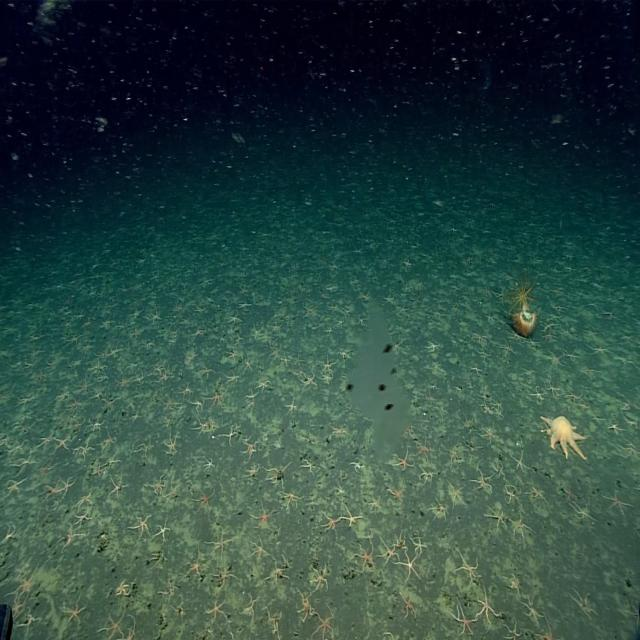brittle-stars: (208, 528, 234, 560), (450, 604, 475, 636), (12, 566, 38, 596), (63, 594, 87, 626), (478, 588, 499, 624), (312, 609, 336, 640), (572, 590, 597, 619), (102, 611, 126, 640), (352, 542, 374, 573), (457, 552, 479, 582), (604, 490, 630, 515), (400, 552, 421, 582), (252, 504, 274, 531), (130, 513, 152, 539), (534, 620, 562, 640), (185, 550, 203, 580), (7, 592, 27, 619), (240, 596, 260, 623), (194, 487, 216, 511), (214, 563, 236, 587), (206, 597, 228, 621), (623, 599, 640, 630), (485, 507, 506, 532), (512, 514, 532, 540), (522, 595, 542, 621), (266, 464, 289, 486), (61, 526, 84, 548), (298, 590, 316, 618), (311, 566, 330, 592), (268, 560, 288, 584), (391, 450, 412, 472), (341, 506, 362, 528), (14, 452, 36, 473), (473, 470, 493, 493), (448, 482, 466, 507), (5, 477, 26, 498), (429, 498, 448, 521), (380, 540, 398, 564), (22, 607, 39, 632), (572, 501, 592, 522), (512, 451, 531, 473), (136, 437, 155, 459), (108, 475, 126, 498), (0, 523, 18, 546), (122, 616, 139, 640), (266, 608, 283, 632), (250, 539, 268, 561), (415, 439, 432, 462), (388, 481, 405, 504), (280, 490, 300, 509), (505, 620, 524, 640), (402, 593, 417, 618), (156, 519, 172, 542), (321, 513, 339, 533), (75, 491, 93, 511), (165, 483, 180, 506), (73, 511, 92, 529), (158, 584, 177, 602), (59, 478, 76, 498), (42, 482, 62, 499), (412, 533, 427, 555), (173, 601, 188, 623), (208, 391, 226, 409), (8, 440, 26, 458), (36, 458, 54, 476), (76, 441, 93, 460), (481, 423, 498, 442), (448, 443, 462, 466), (150, 476, 166, 496), (99, 432, 115, 452), (115, 579, 131, 599), (162, 393, 179, 411), (242, 440, 258, 459), (38, 433, 54, 452), (420, 468, 436, 487), (508, 572, 522, 593), (528, 486, 545, 503), (332, 423, 349, 440), (548, 349, 564, 367), (622, 444, 640, 460), (150, 552, 166, 570), (547, 379, 562, 398), (165, 435, 179, 455), (301, 460, 316, 478), (221, 426, 236, 444), (590, 343, 608, 358), (464, 439, 478, 458), (563, 347, 579, 363), (428, 358, 444, 374), (498, 340, 514, 356), (56, 437, 71, 454), (562, 486, 577, 503), (580, 364, 598, 378), (102, 397, 120, 411), (367, 493, 380, 512), (200, 362, 215, 378), (350, 457, 365, 473), (77, 378, 93, 393), (609, 420, 625, 435), (339, 345, 353, 362), (471, 332, 488, 346), (116, 373, 130, 390), (195, 417, 209, 434), (184, 347, 197, 365), (617, 394, 630, 412), (285, 394, 296, 415), (625, 415, 640, 430), (530, 385, 544, 401), (228, 370, 242, 386), (425, 340, 441, 354), (566, 389, 582, 403), (107, 343, 121, 359), (64, 400, 78, 416), (91, 415, 104, 432), (506, 486, 519, 503), (395, 531, 407, 549), (256, 379, 271, 393), (245, 463, 259, 478), (321, 357, 335, 372), (390, 340, 404, 355), (105, 455, 119, 470), (304, 373, 317, 389), (190, 396, 203, 412), (601, 308, 617, 321), (492, 461, 505, 477), (354, 632, 380, 640), (229, 627, 245, 640), (243, 355, 255, 372), (468, 362, 482, 376), (193, 324, 207, 338), (130, 325, 144, 339), (93, 462, 105, 478), (160, 370, 172, 386), (252, 322, 264, 338), (226, 347, 238, 363), (243, 386, 255, 402), (425, 390, 437, 406), (71, 416, 83, 432), (380, 630, 399, 640), (261, 426, 272, 443), (229, 312, 242, 326), (100, 316, 113, 330), (130, 307, 143, 321), (398, 302, 412, 315), (182, 381, 195, 395), (271, 320, 284, 334), (482, 402, 494, 417), (404, 424, 416, 439), (336, 483, 347, 499), (320, 372, 333, 385), (240, 299, 253, 312), (148, 311, 161, 324), (204, 456, 216, 470), (135, 370, 147, 384), (160, 416, 172, 430), (307, 494, 318, 509), (579, 399, 592, 411), (585, 328, 598, 340), (356, 314, 368, 327), (541, 321, 554, 333), (493, 396, 503, 411), (280, 353, 290, 368), (208, 418, 218, 433), (343, 304, 355, 316), (305, 305, 317, 317), (542, 333, 555, 344), (400, 281, 411, 294), (152, 361, 163, 374), (382, 292, 393, 305), (292, 353, 302, 367), (264, 332, 274, 346), (270, 346, 280, 360), (336, 316, 347, 328), (481, 389, 491, 402), (196, 304, 206, 317), (327, 303, 338, 314), (401, 257, 412, 268), (240, 284, 250, 296), (90, 393, 104, 401), (304, 356, 314, 367), (324, 325, 334, 336), (634, 478, 640, 496)
